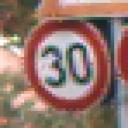speed_limit_30: (20, 12, 114, 117)
